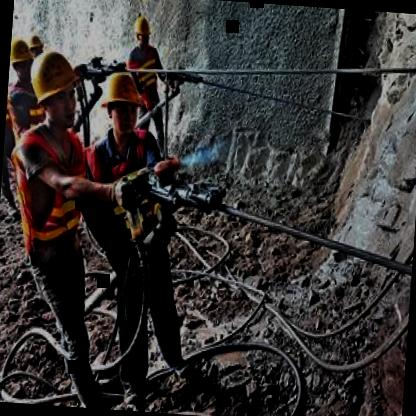helmet: (24, 41, 87, 134), (95, 64, 150, 144), (9, 33, 38, 82), (129, 14, 153, 51)
